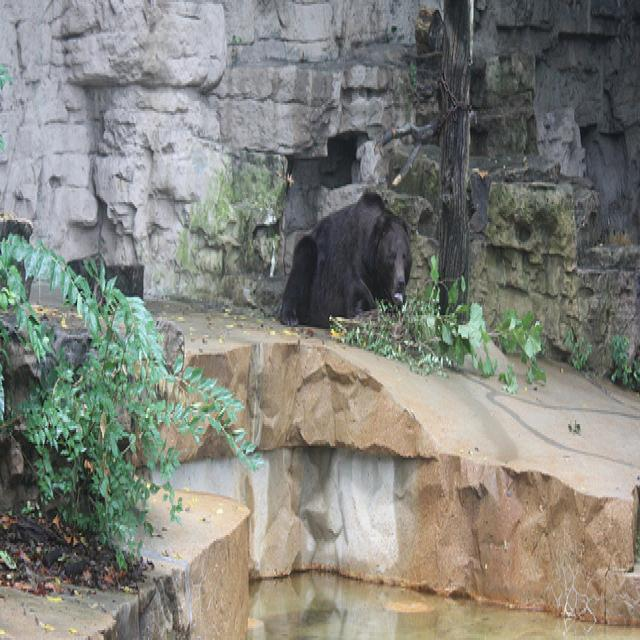Bear: (276, 178, 414, 328)
